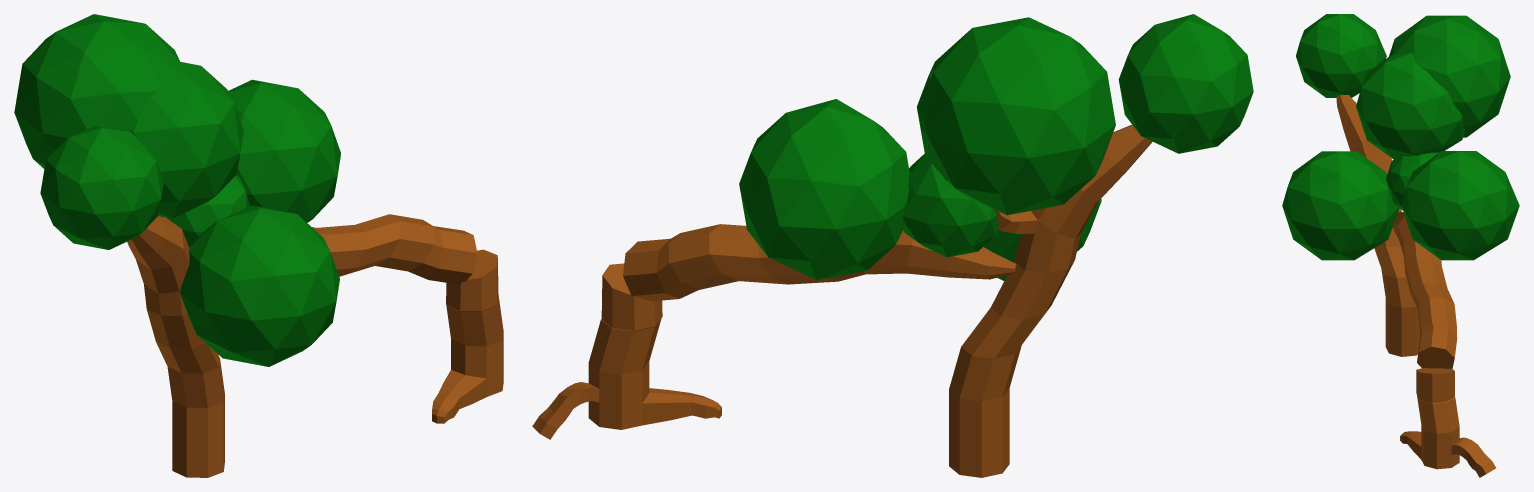
Rendered from Arbol3.fbx.
The picture shows the model from 3 angles, left to right: view 1: azimuth 30°, elevation 25°; view 2: azimuth 150°, elevation 25°; view 3: azimuth 270°, elevation 25°; orthographic projection. The views are drawn at different scales.
Parts seen in each view (by area): view 1: Icosphere.002, Icosphere.021, Cylinder.033, Icosphere.020, Icosphere.001, Icosphere.019, Cylinder.002, Cylinder.001, Icosphere.017; view 2: Icosphere.021, Icosphere.001, Cylinder.033, Icosphere.020, Cylinder.001, Cylinder.002, Icosphere.017, Icosphere.002; view 3: Icosphere.001, Icosphere.002, Icosphere.019, Icosphere.021, Icosphere.020, Cylinder.001, Cylinder.033, Cylinder.002, Icosphere.017.
Boxes of the visible parts, x1=… form: Icosphere.002: x1=180, y1=205, x2=339, y2=366; Icosphere.021: x1=14, y1=14, x2=179, y2=168; Cylinder.033: x1=127, y1=216, x2=224, y2=477; Icosphere.020: x1=40, y1=125, x2=163, y2=249; Icosphere.001: x1=228, y1=79, x2=340, y2=222; Icosphere.019: x1=128, y1=61, x2=243, y2=218; Cylinder.002: x1=432, y1=249, x2=503, y2=423; Cylinder.001: x1=312, y1=214, x2=477, y2=284; Icosphere.017: x1=165, y1=175, x2=249, y2=247; Icosphere.021: x1=920, y1=17, x2=1115, y2=215; Icosphere.001: x1=739, y1=99, x2=909, y2=279; Cylinder.033: x1=949, y1=124, x2=1152, y2=477; Icosphere.020: x1=1118, y1=14, x2=1253, y2=153; Cylinder.001: x1=623, y1=224, x2=1016, y2=301; Cylinder.002: x1=532, y1=263, x2=721, y2=439; Icosphere.017: x1=903, y1=153, x2=998, y2=257; Icosphere.002: x1=983, y1=198, x2=1101, y2=280; Icosphere.001: x1=1401, y1=151, x2=1519, y2=260; Icosphere.002: x1=1282, y1=151, x2=1399, y2=260; Icosphere.019: x1=1356, y1=52, x2=1465, y2=159; Icosphere.021: x1=1389, y1=15, x2=1510, y2=137; Icosphere.020: x1=1296, y1=14, x2=1386, y2=97; Cylinder.001: x1=1393, y1=211, x2=1457, y2=368; Cylinder.033: x1=1336, y1=95, x2=1420, y2=356; Cylinder.002: x1=1400, y1=368, x2=1495, y2=477; Icosphere.017: x1=1386, y1=152, x2=1438, y2=210.
Size of the model in its own units: 688 by 548 by 370.
